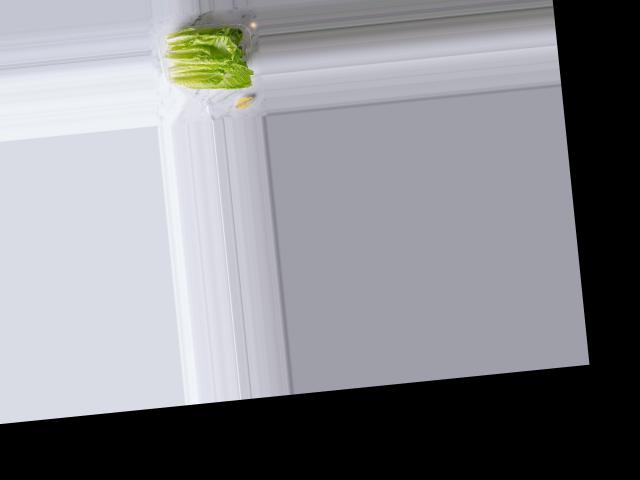lettuce: (161, 19, 256, 99)
